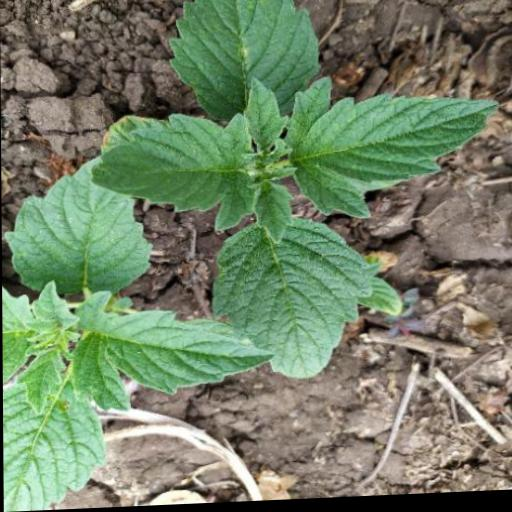crop: (75, 0, 499, 379), (1, 143, 261, 506)
